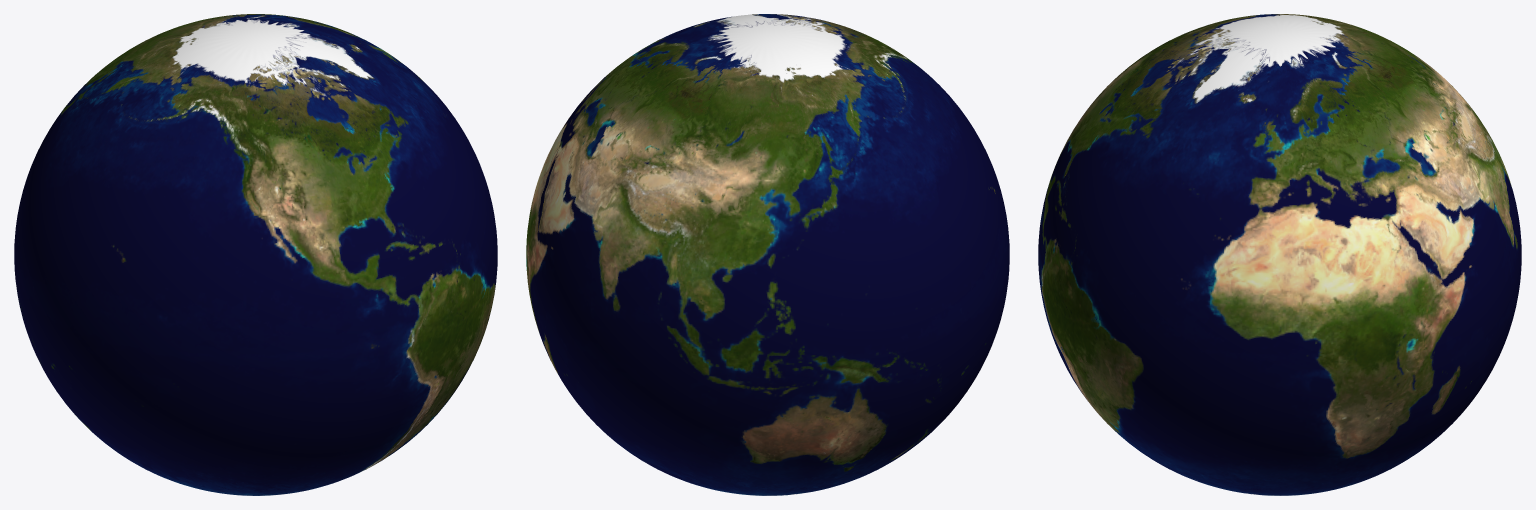
File: earth.glb
3 renders of one model, left to right at view 1: azimuth 30°, elevation 25°; view 2: azimuth 150°, elevation 25°; view 3: azimuth 270°, elevation 25°, orthographic.
Visible parts, largest first — view 1: Earth; view 2: Earth; view 3: Earth.
Boxes of the visible parts, <box> form: Earth: <box>14,14,497,495</box>; Earth: <box>526,14,1009,495</box>; Earth: <box>1038,14,1521,495</box>.
Bounding box in the file's own units: 20 × 20 × 20.
1 material, 1 textured.
